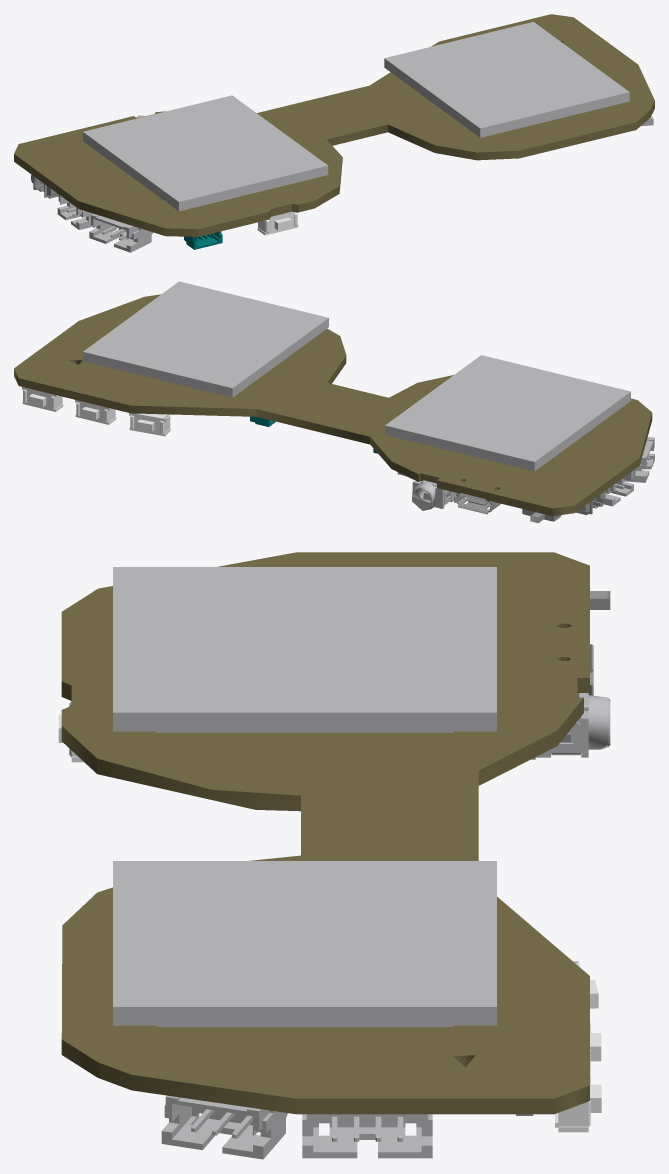
The model's file is ada-4343.glb.
The picture shows the model from 3 angles, top to bottom: view 1: azimuth 30°, elevation 25°; view 2: azimuth 150°, elevation 25°; view 3: azimuth 270°, elevation 25°; orthographic projection. The views are drawn at different scales.
Parts seen in each view (by area): view 1: 0.5833333333333334_0.5833333333333334_0.5833333333333334_0.8, 0.16666666666666666_0.16666666666666666_0.08333333333333333_, 0.9166666666666666_0.9166666666666666_0.9166666666666666_0.8, 0_0.25_0.25_0; view 2: 0.5833333333333334_0.5833333333333334_0.5833333333333334_0.8, 0.16666666666666666_0.16666666666666666_0.08333333333333333_, 0.9166666666666666_0.9166666666666666_0.9166666666666666_0.8, 0.3333333333333333_0.3333333333333333_0.3333333333333333_0; view 3: 0.5833333333333334_0.5833333333333334_0.5833333333333334_0.8, 0.16666666666666666_0.16666666666666666_0.08333333333333333_, 0.9166666666666666_0.9166666666666666_0.9166666666666666_0.8.
Part boxes in pixels (left/top/right/bottom): 0.5833333333333334_0.5833333333333334_0.5833333333333334_0.8: left=57, top=22, right=653, bottom=252; 0.16666666666666666_0.16666666666666666_0.08333333333333333_: left=14, top=14, right=654, bottom=236; 0.9166666666666666_0.9166666666666666_0.9166666666666666_0.8: left=257, top=211, right=298, bottom=235; 0_0.25_0.25_0: left=184, top=231, right=222, bottom=249; 0.5833333333333334_0.5833333333333334_0.5833333333333334_0.8: left=83, top=281, right=654, bottom=510; 0.16666666666666666_0.16666666666666666_0.08333333333333333_: left=14, top=294, right=652, bottom=516; 0.9166666666666666_0.9166666666666666_0.9166666666666666_0.8: left=22, top=387, right=170, bottom=436; 0.3333333333333333_0.3333333333333333_0.3333333333333333_0: left=454, top=491, right=605, bottom=523; 0.5833333333333334_0.5833333333333334_0.5833333333333334_0.8: left=113, top=567, right=610, bottom=1159; 0.16666666666666666_0.16666666666666666_0.08333333333333333_: left=61, top=552, right=589, bottom=1114; 0.9166666666666666_0.9166666666666666_0.9166666666666666_0.8: left=58, top=701, right=601, bottom=1132.
Size of the model in its own units: 11.81 by 1.03 by 5.04.
